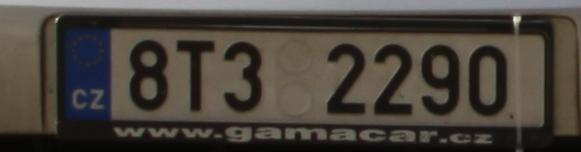2: (326, 42, 365, 114), (374, 43, 412, 116)
3: (223, 42, 261, 112)
8: (129, 40, 168, 112)
9: (423, 45, 459, 115), (470, 47, 506, 117)
T: (177, 40, 214, 113)
